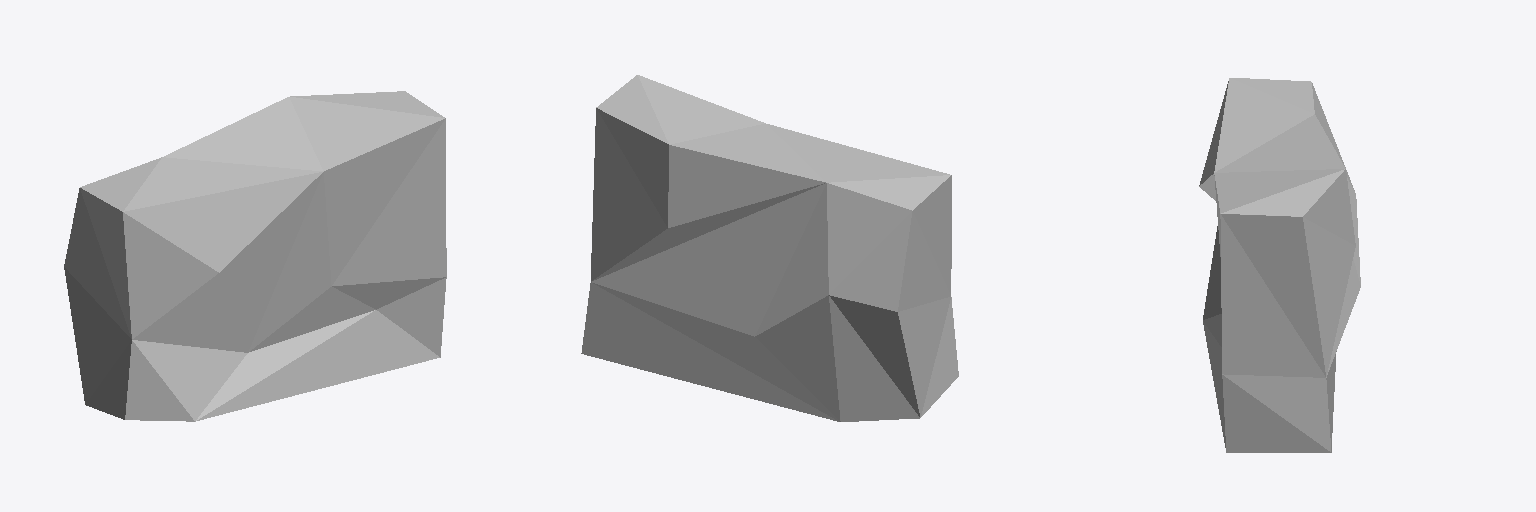
File: Hedge.obj
The picture shows the model from 3 angles: view 1: azimuth 30°, elevation 25°; view 2: azimuth 150°, elevation 25°; view 3: azimuth 270°, elevation 25°; orthographic projection.
Visible parts, largest first — view 1: Cube; view 2: Cube; view 3: Cube.
Boxes of the visible parts, x1=… form: Cube: x1=64, y1=91, x2=446, y2=421; Cube: x1=581, y1=75, x2=958, y2=421; Cube: x1=1199, y1=78, x2=1360, y2=452.
Bounding box in the file's own units: 4.48 × 3.19 × 1.95.